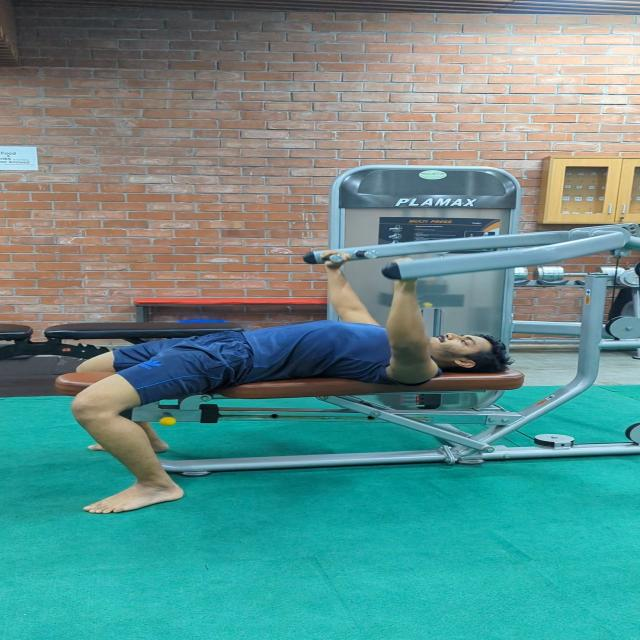Normal_BrenchPress: (66, 233, 534, 521)
